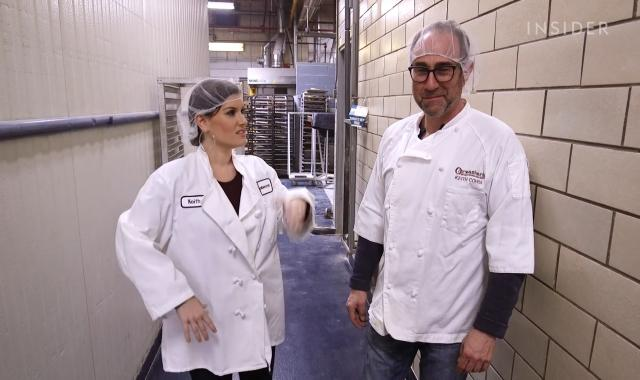hairnet: (408, 21, 477, 67), (180, 76, 248, 114)
